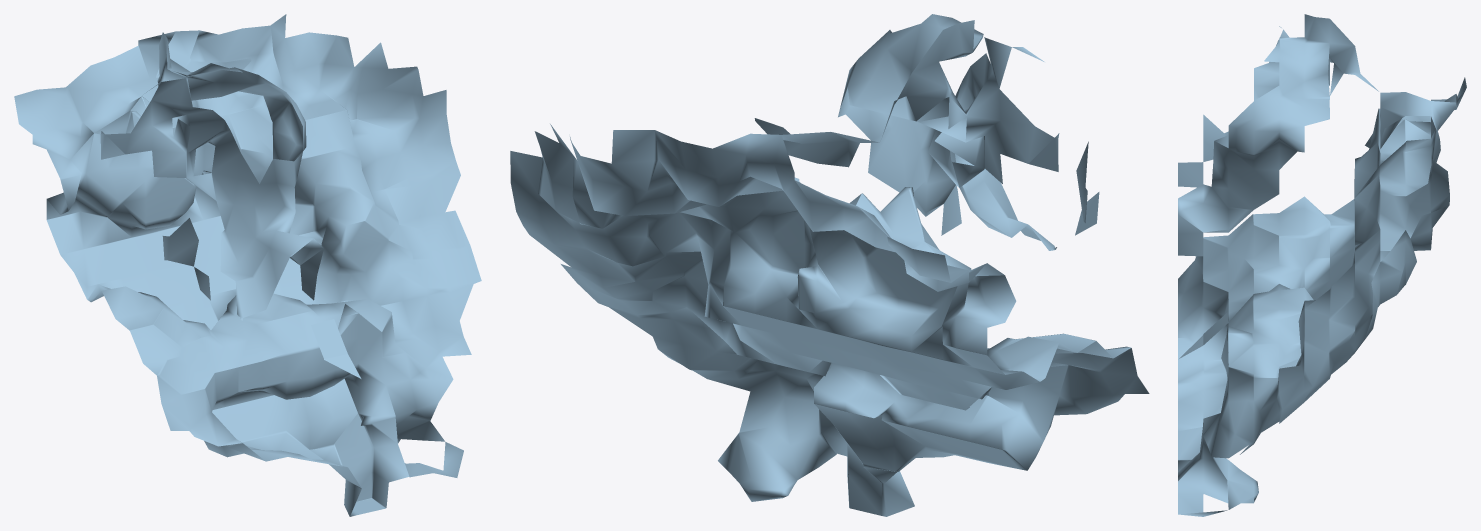
File: tile_0_0.glb
3 views of the same model, side by side, from view 1: azimuth 30°, elevation 25°; view 2: azimuth 150°, elevation 25°; view 3: azimuth 270°, elevation 25° (orthographic). The views are drawn at different scales.
Parts seen in each view (by area): view 1: mesh; view 2: mesh; view 3: mesh.
Part boxes in pixels (x1,y1,x2,y2): mesh: [14, 14, 481, 516]; mesh: [510, 14, 1149, 516]; mesh: [1178, 14, 1466, 516].
Bounding box in the file's own units: 16 × 18.02 × 11.42.
